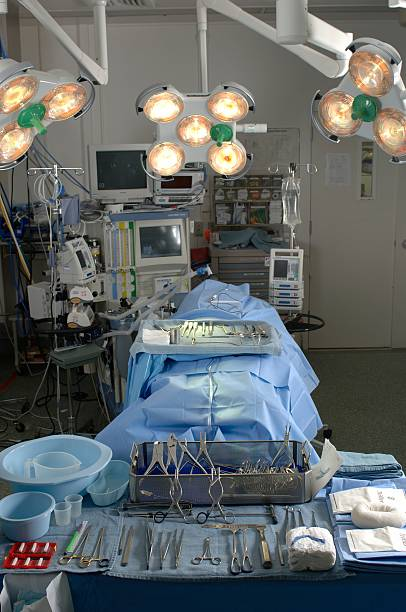bedside_monitor: (87, 145, 160, 198), (131, 219, 191, 269), (160, 179, 203, 196)
breathing_tube: (99, 264, 212, 338)
infusion_pump: (68, 240, 98, 289)
iv_pole: (25, 164, 86, 349), (267, 159, 319, 358)
medical_drawer: (204, 246, 295, 315)
surgical_instrument: (1, 421, 406, 583), (142, 317, 282, 356)
surgical_light: (309, 39, 406, 155), (136, 85, 252, 180), (1, 57, 96, 172)
syringe_pump: (269, 248, 307, 283), (267, 297, 302, 305), (268, 290, 303, 298), (269, 283, 304, 290)
